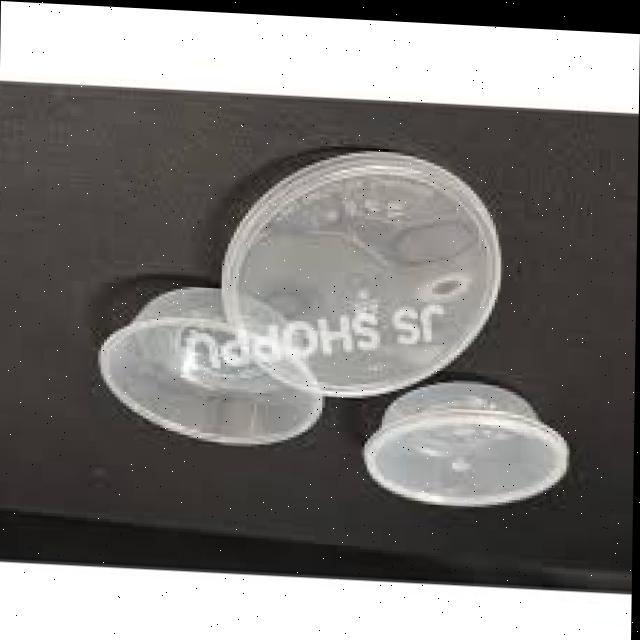disposable: (74, 264, 339, 466), (348, 357, 570, 535)
